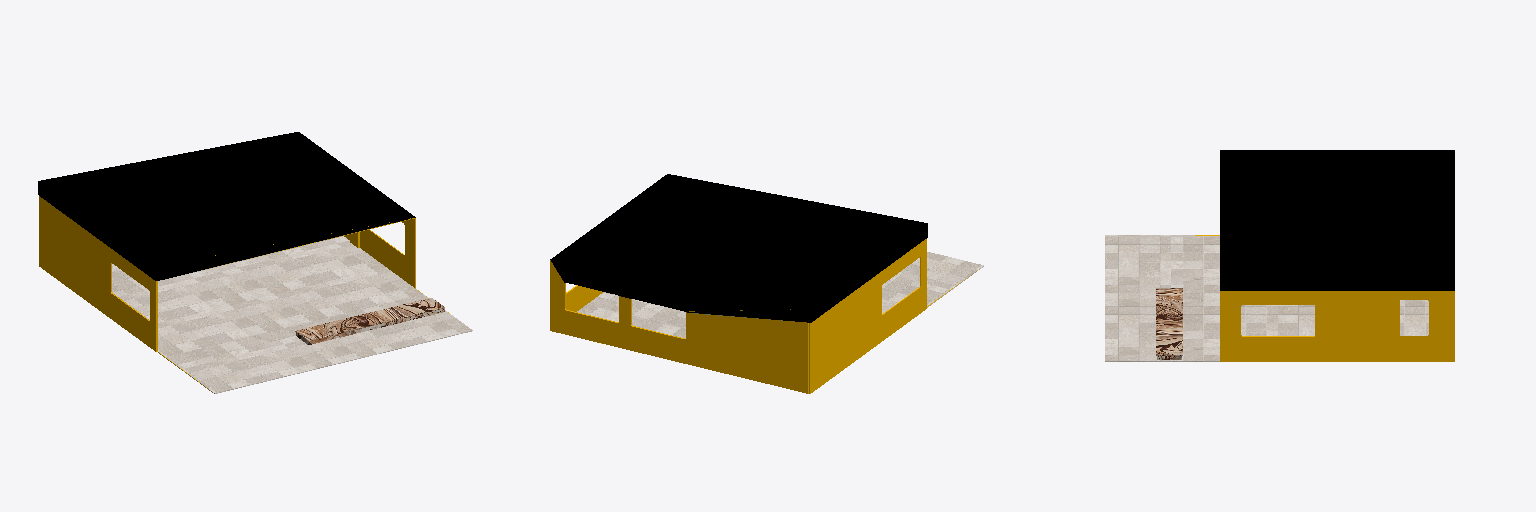
3 renders of one model, left to right at view 1: azimuth 30°, elevation 25°; view 2: azimuth 150°, elevation 25°; view 3: azimuth 270°, elevation 25°, orthographic.
Parts seen in each view (by area): view 1: polySurface13 polySurface8 polySurface7 tinker2:group_0_[number redacted], polySurface8 polySurface7 tinker2:group_0_[number redacted] polySurface14, polySurface15 polySurface13 polySurface8 polySurface7 tinker2:gr, polySurface6 polySurface21, polySurface20 polySurface6; view 2: polySurface13 polySurface8 polySurface7 tinker2:group_0_[number redacted], polySurface15 polySurface13 polySurface8 polySurface7 tinker2:gr, polySurface8 polySurface7 tinker2:group_0_[number redacted] polySurface14; view 3: polySurface13 polySurface8 polySurface7 tinker2:group_0_[number redacted], polySurface8 polySurface7 tinker2:group_0_[number redacted] polySurface14, polySurface15 polySurface13 polySurface8 polySurface7 tinker2:gr, polySurface6 polySurface21.
Part boxes in pixels (bbox=[...]): polySurface13 polySurface8 polySurface7 tinker2:group_0_[number redacted]: bbox=[38, 132, 415, 280]; polySurface8 polySurface7 tinker2:group_0_[number redacted] polySurface14: bbox=[112, 236, 472, 393]; polySurface15 polySurface13 polySurface8 polySurface7 tinker2:gr: bbox=[39, 196, 448, 390]; polySurface6 polySurface21: bbox=[295, 298, 444, 340]; polySurface20 polySurface6: bbox=[296, 308, 444, 344]; polySurface13 polySurface8 polySurface7 tinker2:group_0_[number redacted]: bbox=[550, 174, 927, 322]; polySurface15 polySurface13 polySurface8 polySurface7 tinker2:gr: bbox=[550, 239, 977, 393]; polySurface8 polySurface7 tinker2:group_0_[number redacted] polySurface14: bbox=[577, 252, 983, 338]; polySurface13 polySurface8 polySurface7 tinker2:group_0_[number redacted]: bbox=[1220, 150, 1454, 290]; polySurface8 polySurface7 tinker2:group_0_[number redacted] polySurface14: bbox=[1105, 235, 1428, 361]; polySurface15 polySurface13 polySurface8 polySurface7 tinker2:gr: bbox=[1195, 235, 1454, 361]; polySurface6 polySurface21: bbox=[1156, 288, 1182, 355].
Size of the model in its own units: 66.5 by 20.85 by 77.35.
7 materials, 5 textured.